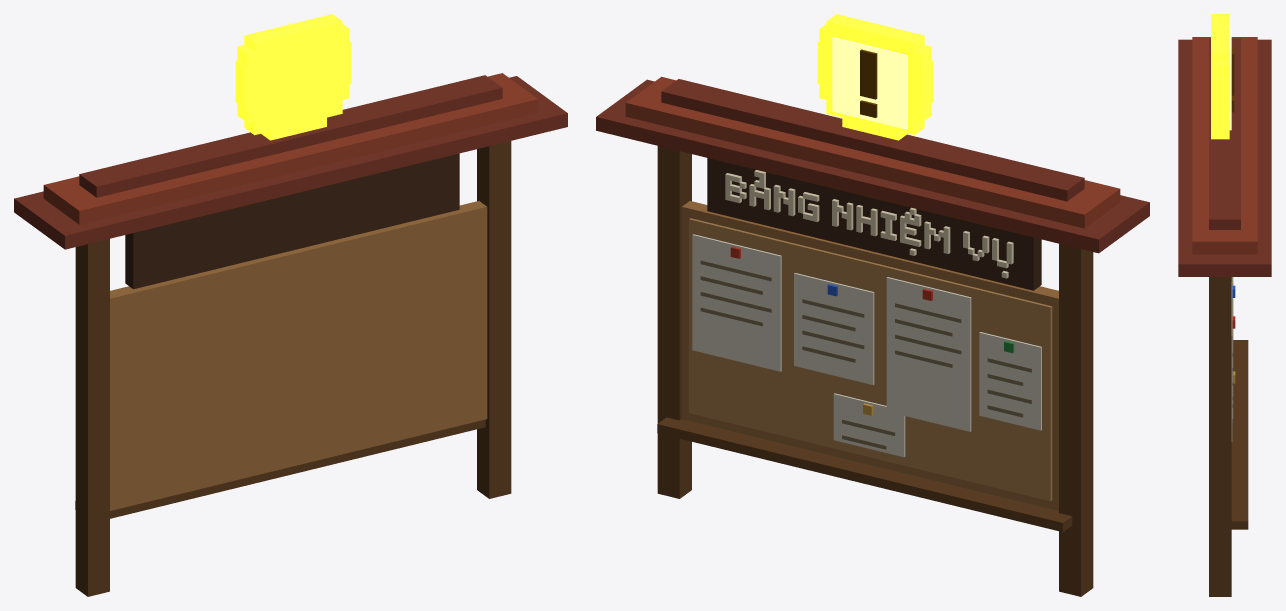
Rendered from tt-quest-board.glb.
3 renders of one model, left to right at view 1: azimuth 30°, elevation 25°; view 2: azimuth 150°, elevation 25°; view 3: azimuth 270°, elevation 25°, orthographic. The views are drawn at different scales.
Parts seen in each view (by area): view 1: box-prop; view 2: box-prop; view 3: box-prop.
Part boxes in pixels (x1,y1,x2,y2): box-prop: (14, 14, 567, 596); box-prop: (596, 14, 1149, 596); box-prop: (1178, 14, 1271, 596).
Size of the model in its own units: 5.7 by 5.55 by 1.
